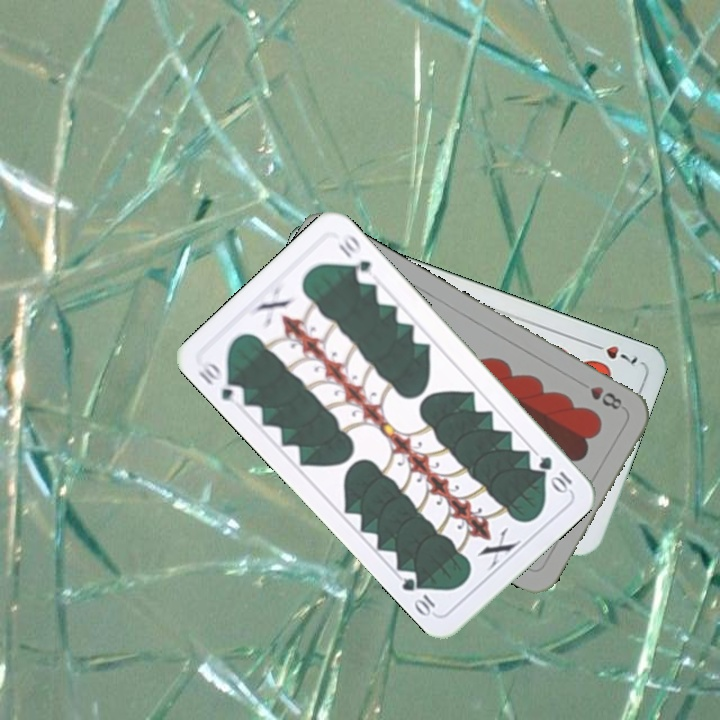G10: (194, 356, 248, 409), (534, 452, 576, 496)
H7: (585, 338, 641, 367)
H8: (574, 377, 625, 413)
